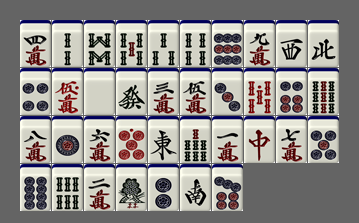0m: (52, 68, 83, 115)
0p: (116, 116, 147, 163)
0s: (244, 68, 275, 115)
1m: (212, 116, 243, 163)
1p: (52, 116, 83, 163)
1s: (116, 164, 147, 211)
1z: (148, 116, 179, 163)
2m: (84, 164, 115, 211)
2p: (148, 164, 179, 211)
2s: (52, 20, 83, 67)
2z: (180, 164, 211, 211)
3m: (148, 68, 179, 115)
3p: (212, 68, 243, 115)
3s: (148, 20, 179, 67)
3z: (276, 20, 307, 67)
4m: (20, 20, 51, 67)
4p: (20, 68, 51, 115)
4s: (180, 20, 211, 67)
4z: (308, 20, 339, 67)
5m: (180, 68, 211, 115)
5p: (308, 116, 339, 163)
5s: (116, 20, 147, 67)
5z: (84, 68, 115, 115)
6m: (84, 116, 115, 163)
6p: (276, 68, 307, 115)
6s: (52, 164, 83, 211)
6z: (116, 68, 147, 115)
7m: (276, 116, 307, 163)
7p: (212, 164, 243, 211)
7s: (180, 116, 211, 163)
7z: (244, 116, 275, 163)
8m: (20, 116, 51, 163)
8p: (20, 164, 51, 211)
8s: (84, 20, 115, 67)
9m: (244, 20, 275, 67)
9p: (212, 20, 243, 67)
9s: (308, 68, 339, 115)
